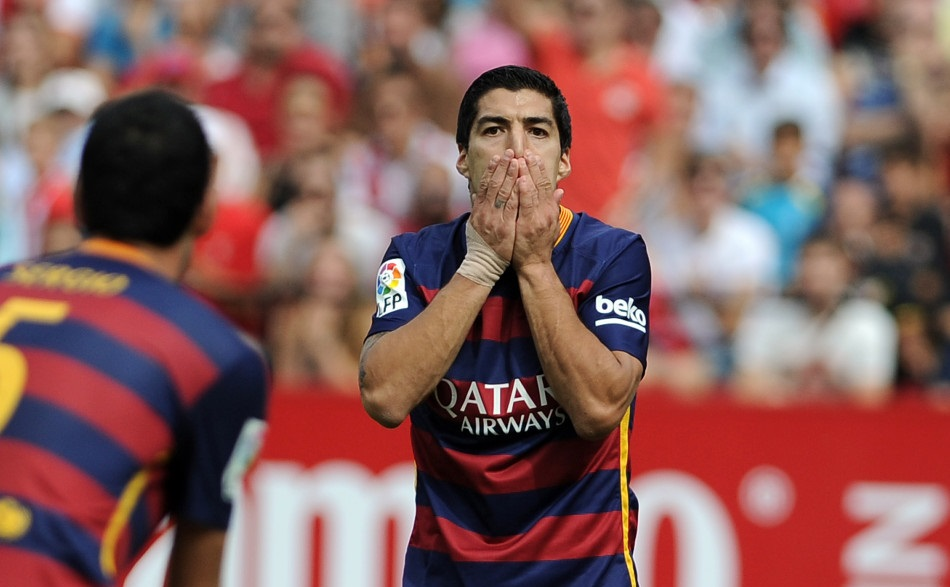face: (474, 91, 563, 216)
